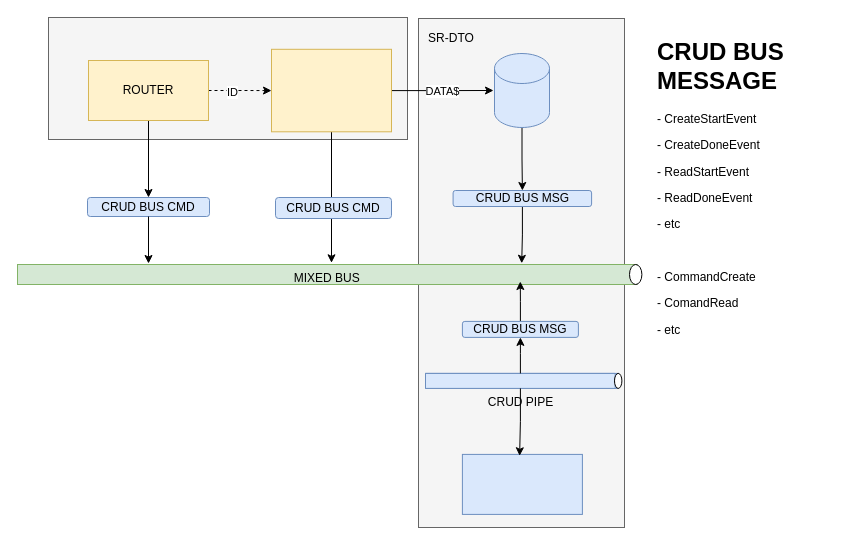
The diagram is 860 pixels wide and 545 high, and some of its shapes have lost their labels. Each missing label, with the centre of its shape:
"COMPONENT" goes at point 331,90.
"HTTP CLIENT" goes at point 521,483.
"STORE" goes at point 522,90.
